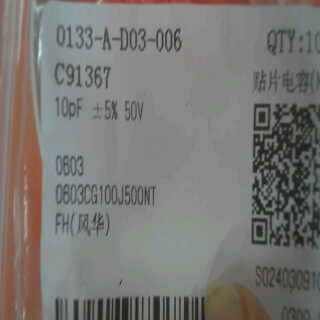10pF: (53, 93, 89, 130)
